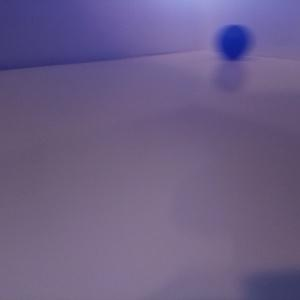dead_ball: (218, 24, 250, 60)
